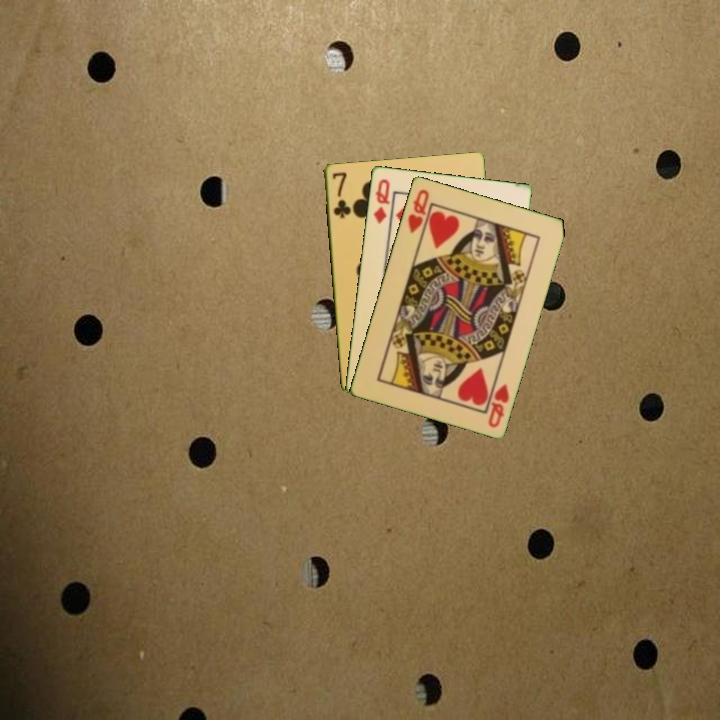7c: (328, 168, 352, 221)
Qd: (370, 175, 392, 226)
Qh: (483, 379, 512, 430), (404, 185, 432, 236)
